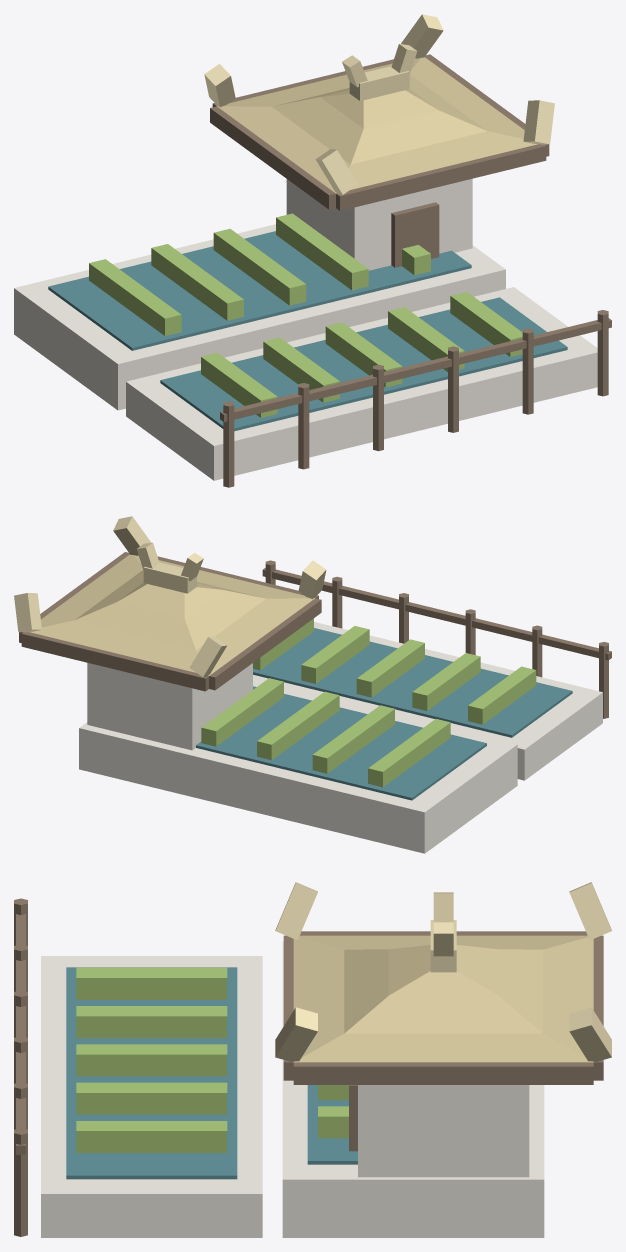
The model's file is SM_Building_Farm.fbx.
3 views of the same model, one above another, from view 1: azimuth 30°, elevation 25°; view 2: azimuth 150°, elevation 25°; view 3: azimuth 270°, elevation 25° (orthographic). The views are drawn at different scales.
Parts seen in each view (by area): view 1: Farm; view 2: Farm; view 3: Farm.
Boxes of the visible parts, x1,y1,x2,y2 form: Farm: (14, 14, 611, 487); Farm: (14, 516, 611, 853); Farm: (14, 882, 611, 1237).
Bounding box in the file's own units: 3.19 × 1.6 × 2.97.
